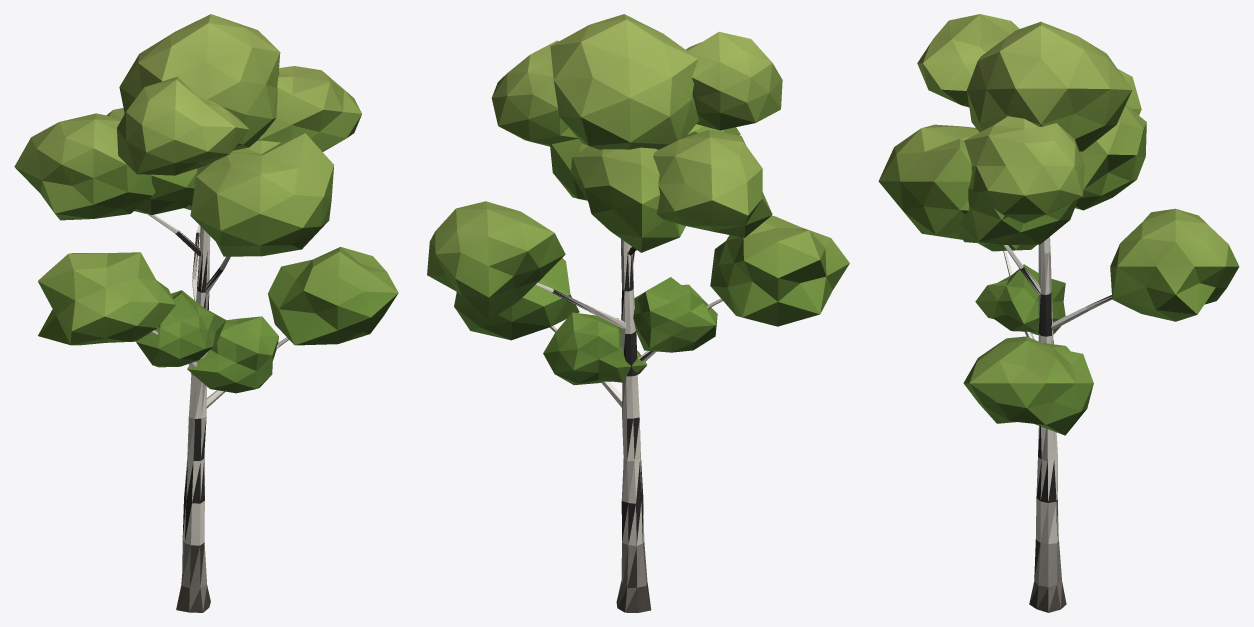
Rendered from birch_tree_01.glb.
3 views of the same model, side by side, from view 1: azimuth 30°, elevation 25°; view 2: azimuth 150°, elevation 25°; view 3: azimuth 270°, elevation 25° (orthographic).
Parts seen in each view (by area): view 1: birch_tree_01_foliage, birch_tree_01_bark; view 2: birch_tree_01_foliage, birch_tree_01_bark; view 3: birch_tree_01_foliage, birch_tree_01_bark.
Part boxes in pixels (x1,y1,x2,y2): birch_tree_01_foliage: [14, 14, 398, 393]; birch_tree_01_bark: [146, 213, 288, 612]; birch_tree_01_foliage: [427, 14, 849, 385]; birch_tree_01_bark: [535, 239, 722, 612]; birch_tree_01_foliage: [878, 14, 1239, 435]; birch_tree_01_bark: [1003, 237, 1112, 612].
Bounding box in the file's own units: 7.25 × 11.3 × 6.33.
